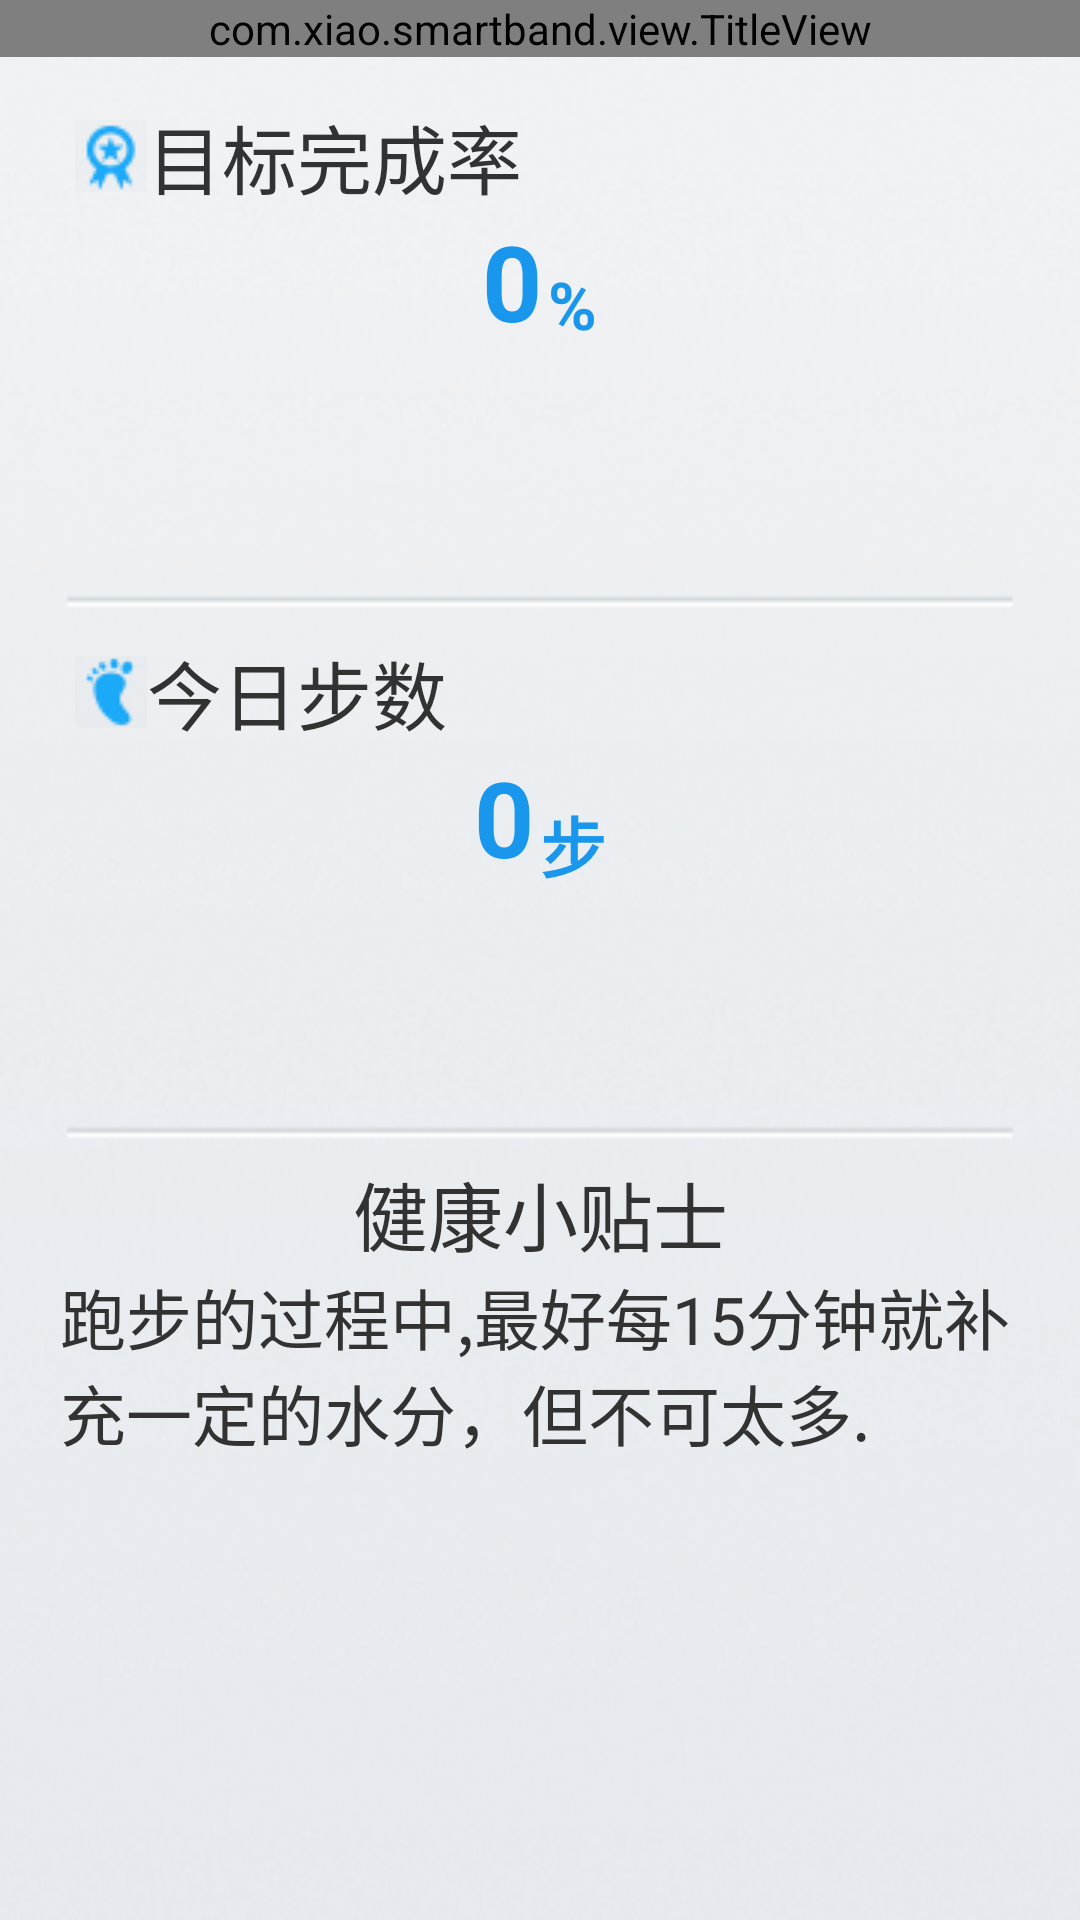

Point at icon controls on the screen. Image size 1080*1920, points as (x=x, y=y).
stepsaim: (x=111, y=157)
stepscurrentimg: (x=109, y=692)
